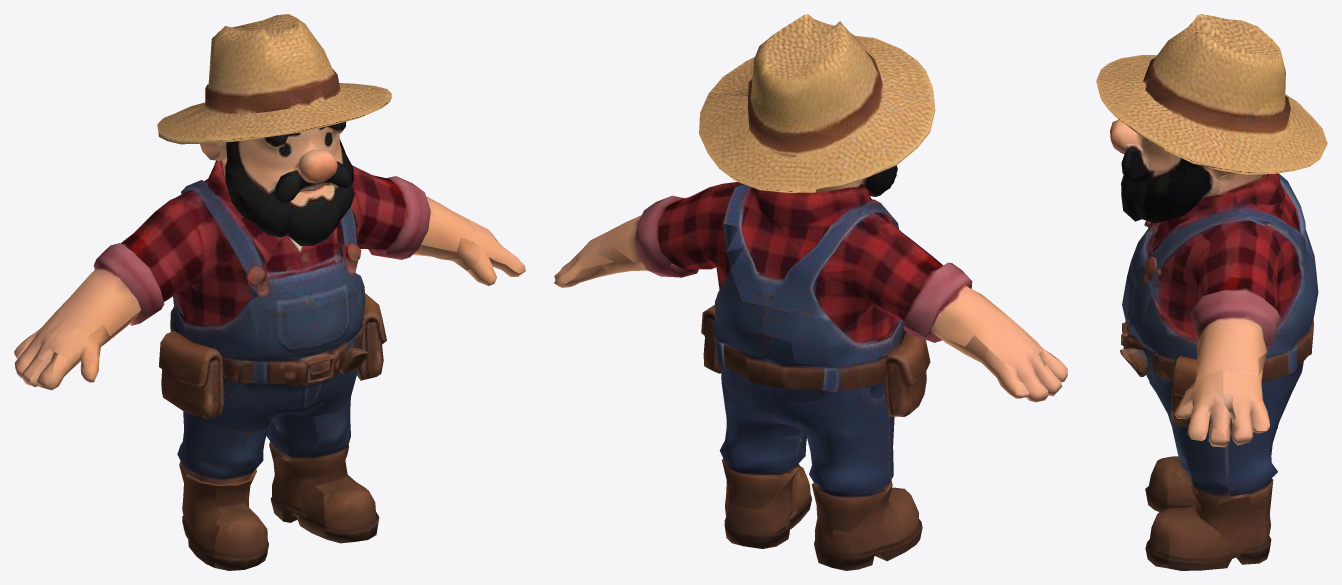
Rendered from harvest_helper_opt.glb.
3 views of the same model, side by side, from view 1: azimuth 30°, elevation 25°; view 2: azimuth 150°, elevation 25°; view 3: azimuth 270°, elevation 25° (orthographic).
Visible parts, largest first — view 1: harvest_helper_opt; view 2: harvest_helper_opt; view 3: harvest_helper_opt.
Part boxes in pixels (x1,y1,x2,y2): harvest_helper_opt: (14,14,525,570); harvest_helper_opt: (554,14,1067,570); harvest_helper_opt: (1096,14,1327,570).
Size of the model in its own units: 0.998 by 0.9961 by 0.4111.
1 material, 1 textured.
